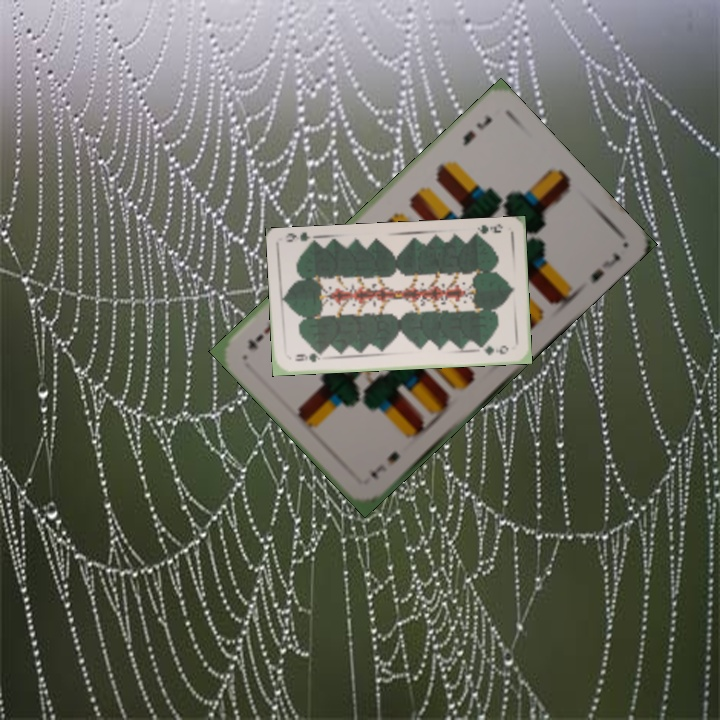E7: (458, 111, 495, 149), (367, 447, 402, 482)
G9: (469, 220, 505, 240), (291, 349, 326, 365)
